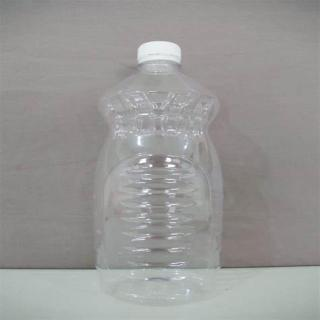Anorganik: (90, 35, 233, 313)
